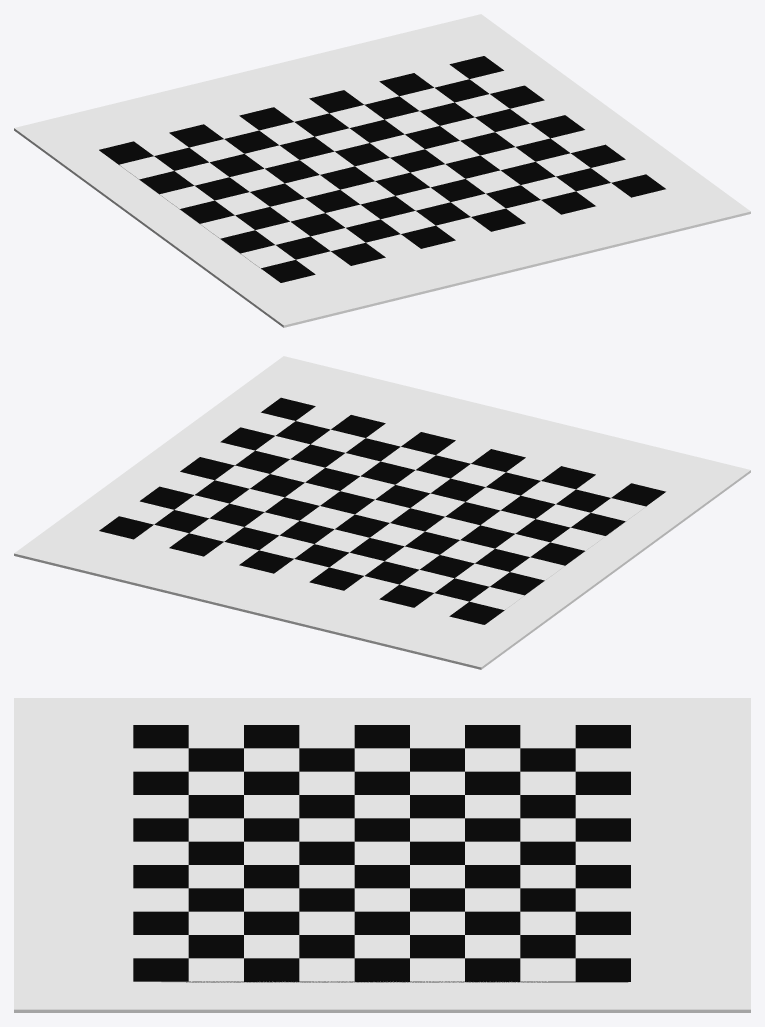
Rendered from calibration_panda.obj.
The picture shows the model from 3 angles, top to bottom: view 1: azimuth 30°, elevation 25°; view 2: azimuth 150°, elevation 25°; view 3: azimuth 270°, elevation 25°; orthographic projection. The views are drawn at different scales.
Parts seen in each view (by area): view 1: Cube.004_Cube; view 2: Cube.004_Cube; view 3: Cube.004_Cube.
Part boxes in pixels (x1=…): Cube.004_Cube: x1=14, y1=14, x2=750, y2=327; Cube.004_Cube: x1=14, y1=356, x2=750, y2=669; Cube.004_Cube: x1=14, y1=698, x2=750, y2=1012.
Size of the model in its own units: 0.2 by 0.00114 by 0.2.
